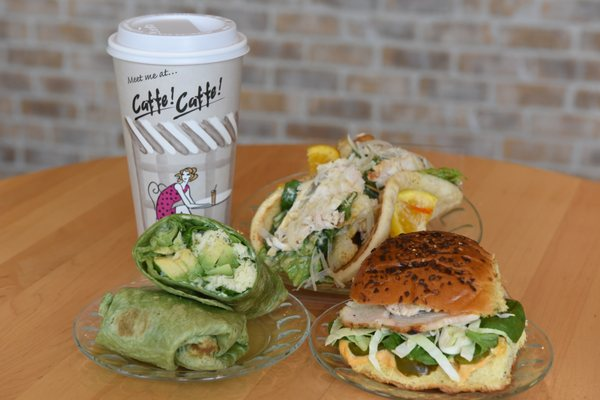pizza: (106, 13, 250, 236)
soup: (249, 132, 475, 290), (325, 229, 528, 393), (93, 214, 286, 374), (90, 283, 249, 373)
